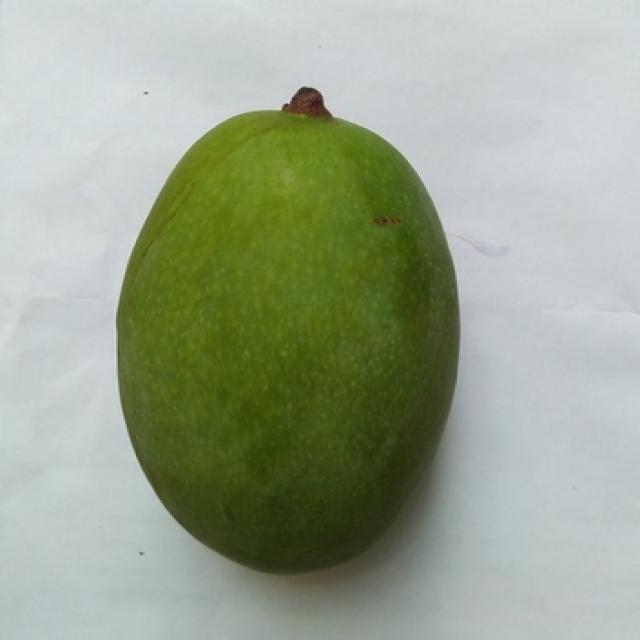Mango: (118, 110, 455, 572)
